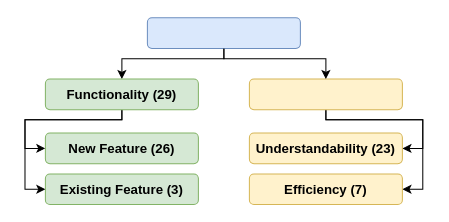
Image size: 449x222. Some labels were removed from this diagram. The shapes that lost their labels are listed below. From the top down, each one's centre as x and y in pixels, then its label:
(223,32): All Statements (59)
(325,94): Usability (30)
